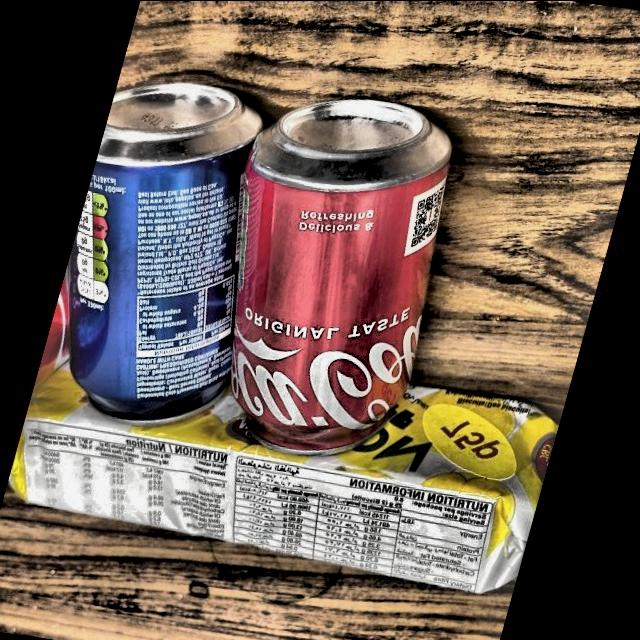coke-can: (233, 108, 444, 454)
lemon puff: (4, 372, 542, 586)
pepsi-can: (78, 83, 255, 421)
